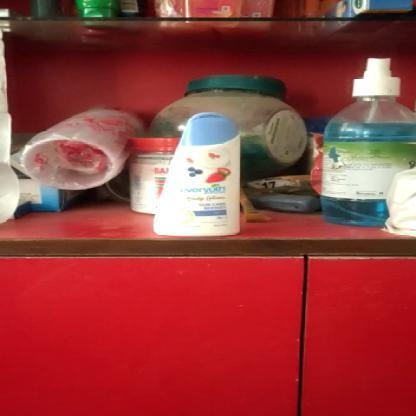Everyuth Naturals Body Lotion Sun Care Berries SPF 15 200ml: (151, 113, 239, 236)
